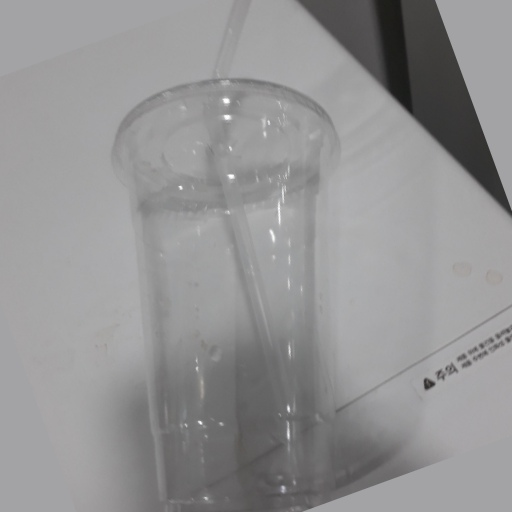Plastic_2: (109, 1, 337, 506)
